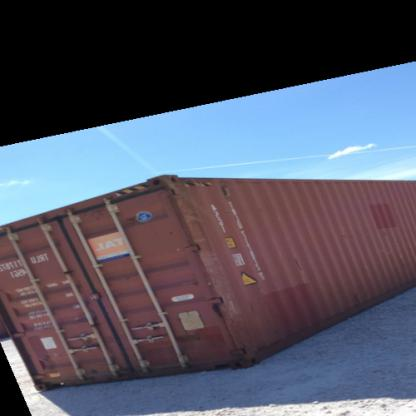Damage: (218, 275, 250, 349), (166, 178, 200, 228), (193, 223, 223, 278)
